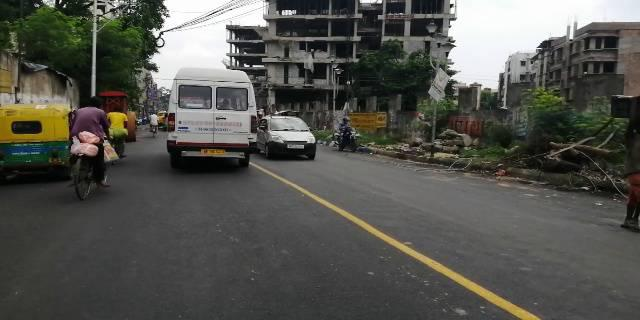Autorickshaw: (1, 102, 72, 180)
Car: (257, 110, 319, 161)
Cycle: (65, 99, 112, 206)
Van: (166, 61, 258, 171)
